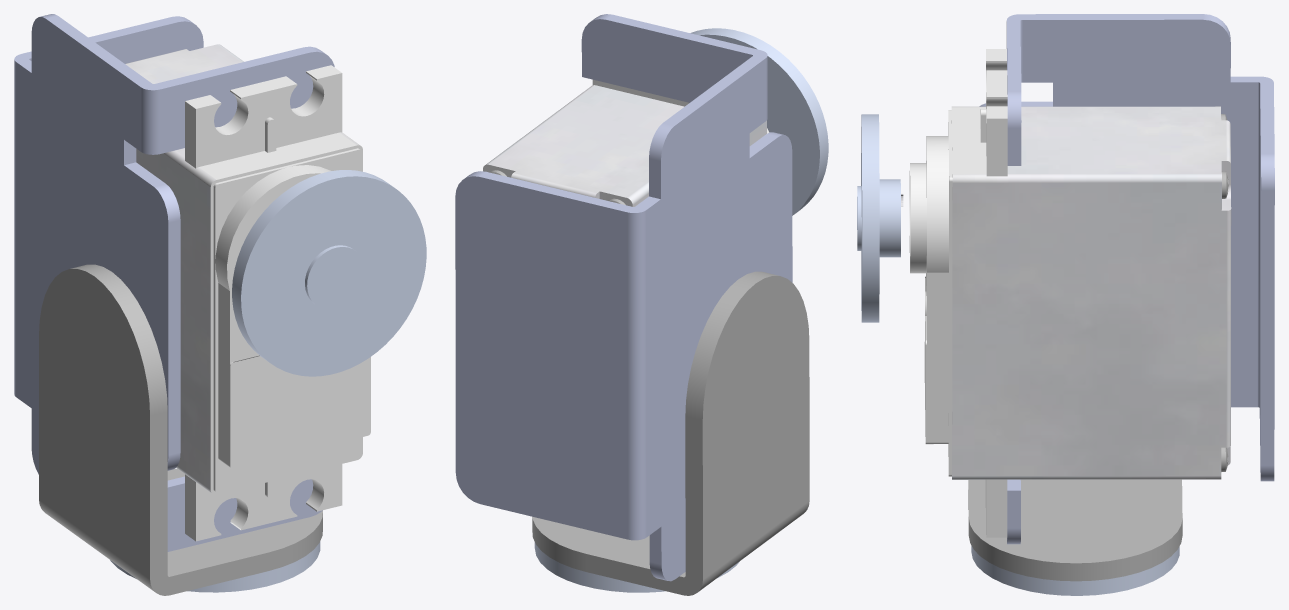
Rendered from r_forearmB_link.dae.
The picture shows the model from 3 angles, left to right: view 1: azimuth 30°, elevation 25°; view 2: azimuth 150°, elevation 25°; view 3: azimuth 270°, elevation 25°; orthographic projection. The views are drawn at different scales.
Parts seen in each view (by area): view 1: Actor0; view 2: Actor0; view 3: Actor0.
Part boxes in pixels (x1,y1,x2,y2): Actor0: (14, 14, 426, 595); Actor0: (455, 14, 828, 595); Actor0: (857, 14, 1274, 595).
Size of the model in its own units: 0.0287 by 0.0647 by 0.0481.
Materials: 7 (2 with a texture image).
